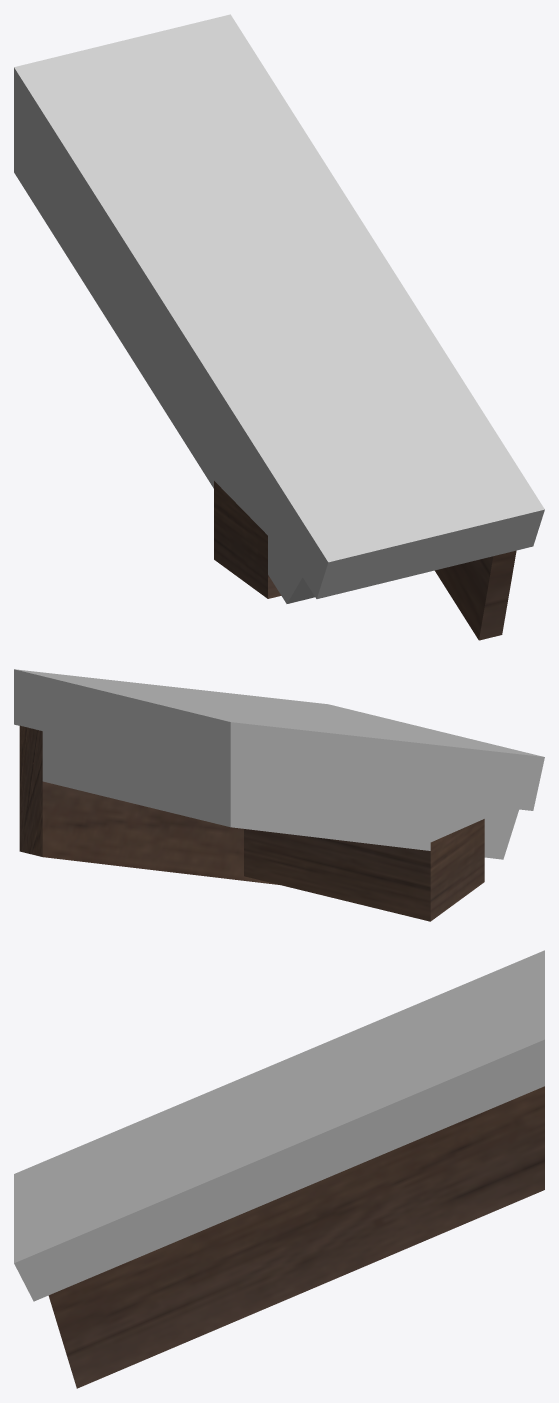
File: kawara__x0t_a0end_l.fbx
3 renders of one model, top to bottom at view 1: azimuth 30°, elevation 25°; view 2: azimuth 150°, elevation 25°; view 3: azimuth 270°, elevation 25°, orthographic. The views are drawn at different scales.
Visible parts, largest first — view 1: kawara__x0t_a0end_l; view 2: kawara__x0t_a0end_l; view 3: kawara__x0t_a0end_l.
Boxes of the visible parts, x1,y1,x2,y2 form: kawara__x0t_a0end_l: [14, 14, 544, 640]; kawara__x0t_a0end_l: [14, 669, 544, 921]; kawara__x0t_a0end_l: [14, 950, 544, 1388].
Bounding box in the file's own units: 30 × 55.1 × 75.41.
